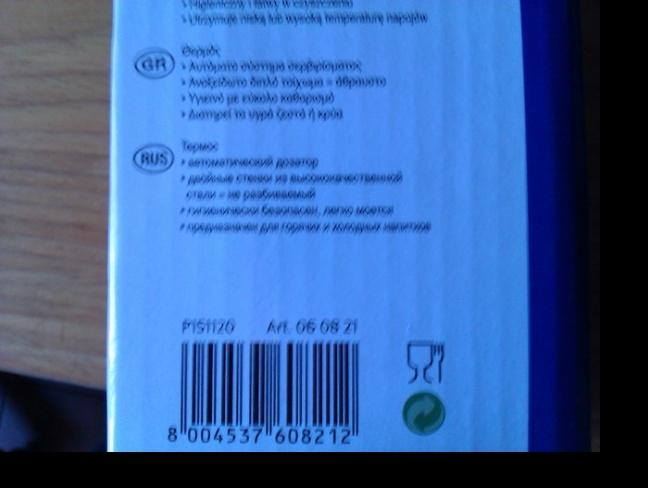Barcode: (162, 345, 377, 453)
